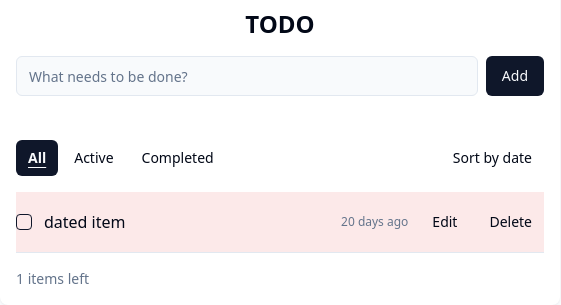
it: R9 — edit-mode-only set/clear due date affordance › exiting edit mode hides the date input again
Expected: the text "dated item" is shown, [44,211,126,233]
Step 1. Click the button "Edit" → (445, 222), box [420,204,470,240]
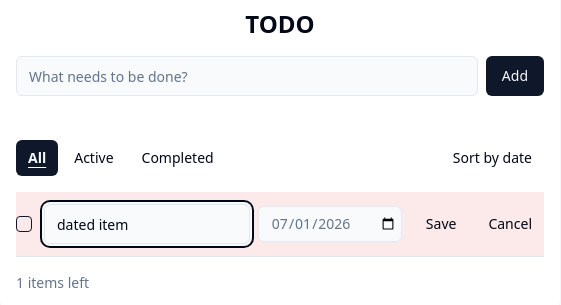
Result: the date field named "Due date" is shown at [258,206,402,242]
Step 2. Press Escape in the field named "Edit todo", box [44,204,250,244]
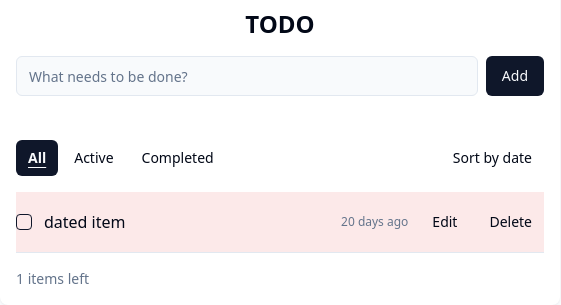
Result: the date field labelled "Due date" is gone
